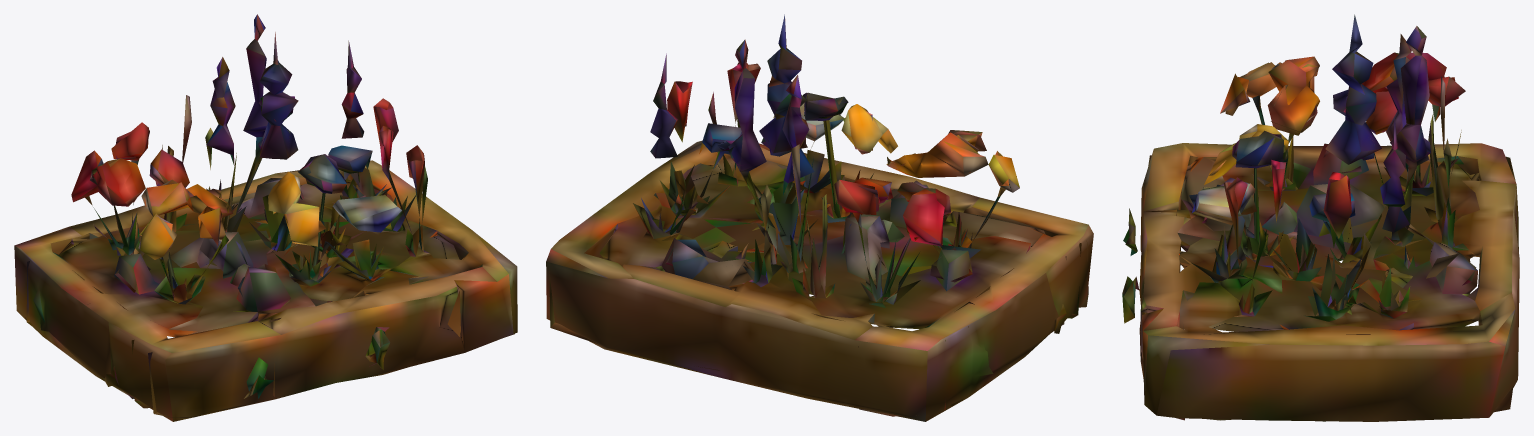
The model's file is flower_bed.glb.
3 views of the same model, side by side, from view 1: azimuth 30°, elevation 25°; view 2: azimuth 150°, elevation 25°; view 3: azimuth 270°, elevation 25° (orthographic). The views are drawn at different scales.
Bounding box in the file's own units: 0.9684 × 0.6896 × 0.7724.
Materials: 1 (1 with a texture image).
